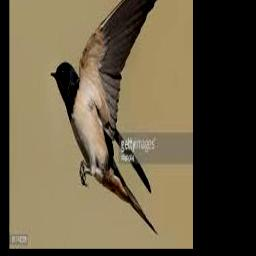Swallow: (49, 0, 171, 235)
